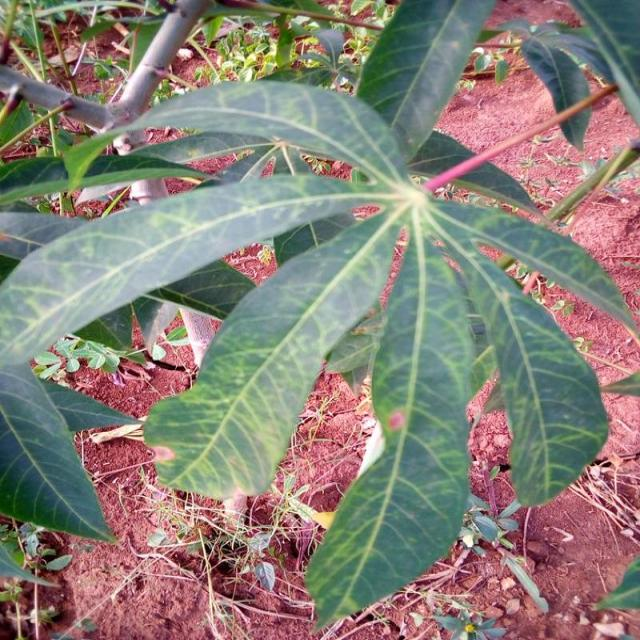cassava leaf: (0, 1, 638, 633), (302, 227, 476, 635)
